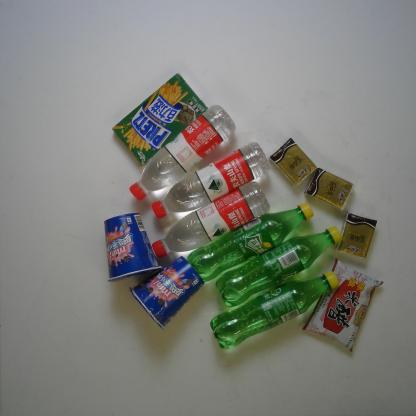Dessert: (111, 71, 209, 168), (127, 255, 206, 332), (102, 210, 163, 282)
Drink: (127, 104, 236, 203), (214, 225, 344, 308), (209, 270, 340, 352), (186, 200, 315, 283), (150, 140, 270, 222), (151, 180, 271, 260)
Seasoner: (301, 258, 385, 355)
Tissue: (268, 137, 318, 188), (303, 166, 356, 213), (334, 211, 378, 260)
